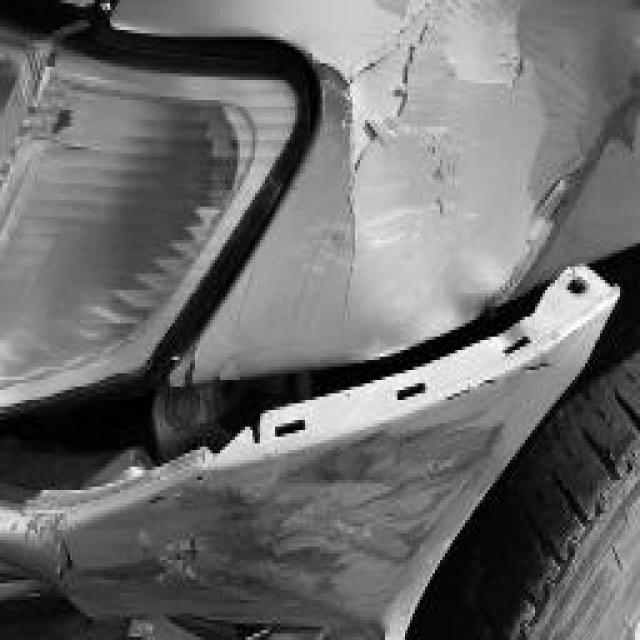Bumper: (2, 267, 625, 637)
Fender: (282, 3, 640, 310)
Light: (5, 37, 238, 387)
